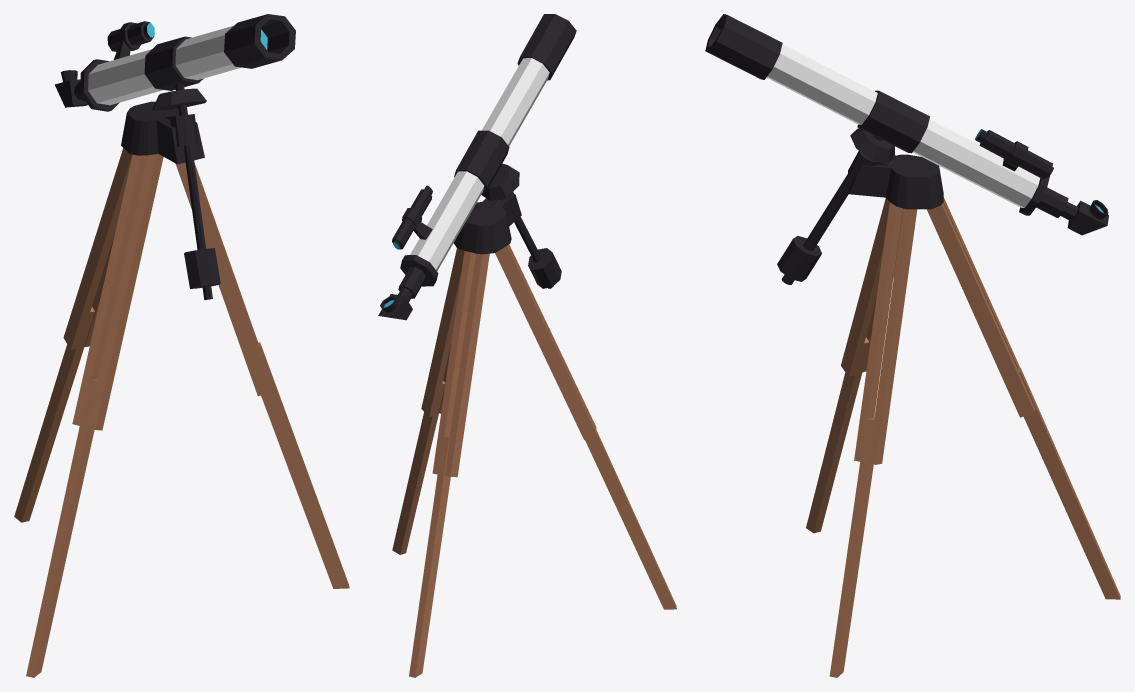
Rendered from telescope.glb.
3 views of the same model, side by side, from view 1: azimuth 30°, elevation 25°; view 2: azimuth 150°, elevation 25°; view 3: azimuth 270°, elevation 25° (orthographic). The views are drawn at different scales.
Parts seen in each view (by area): view 1: Telescope; view 2: Telescope; view 3: Telescope.
Part boxes in pixels (x1,y1,x2,y2): Telescope: [14, 14, 349, 677]; Telescope: [378, 14, 676, 677]; Telescope: [705, 14, 1120, 677].
Bounding box in the file's own units: 0.5127 × 0.9454 × 0.5937.
Materials: 1 (1 with a texture image).
